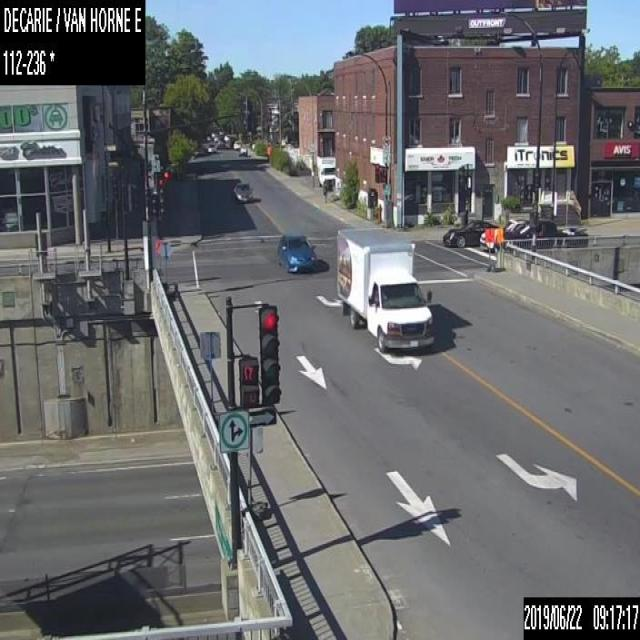construction: (199, 328, 220, 422), (246, 427, 266, 520), (493, 227, 505, 271), (484, 226, 494, 272)
pedestrian: (322, 178, 327, 202)
vehicle: (334, 225, 434, 352), (275, 232, 318, 272), (503, 218, 557, 249), (440, 219, 499, 246), (478, 219, 526, 251), (316, 155, 334, 189), (553, 228, 586, 246), (232, 180, 254, 201), (223, 136, 236, 148), (207, 142, 216, 152), (238, 144, 246, 155), (232, 140, 240, 149), (216, 139, 224, 148), (529, 216, 530, 217)
